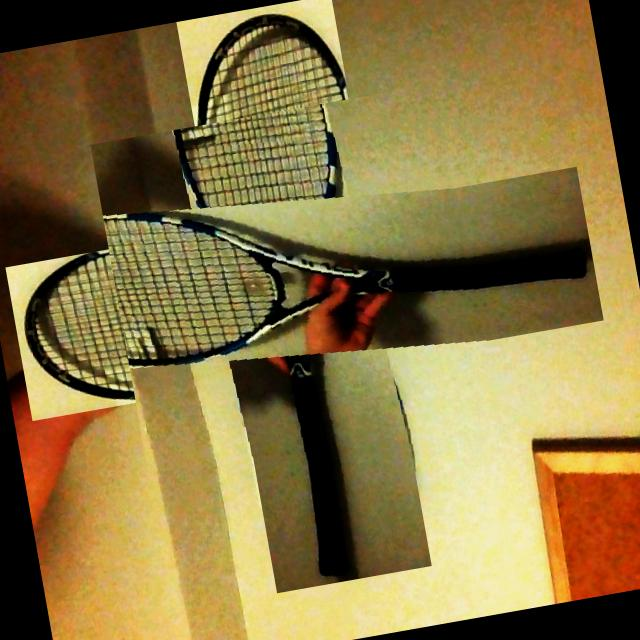TennisRacket: (89, 80, 516, 506)
